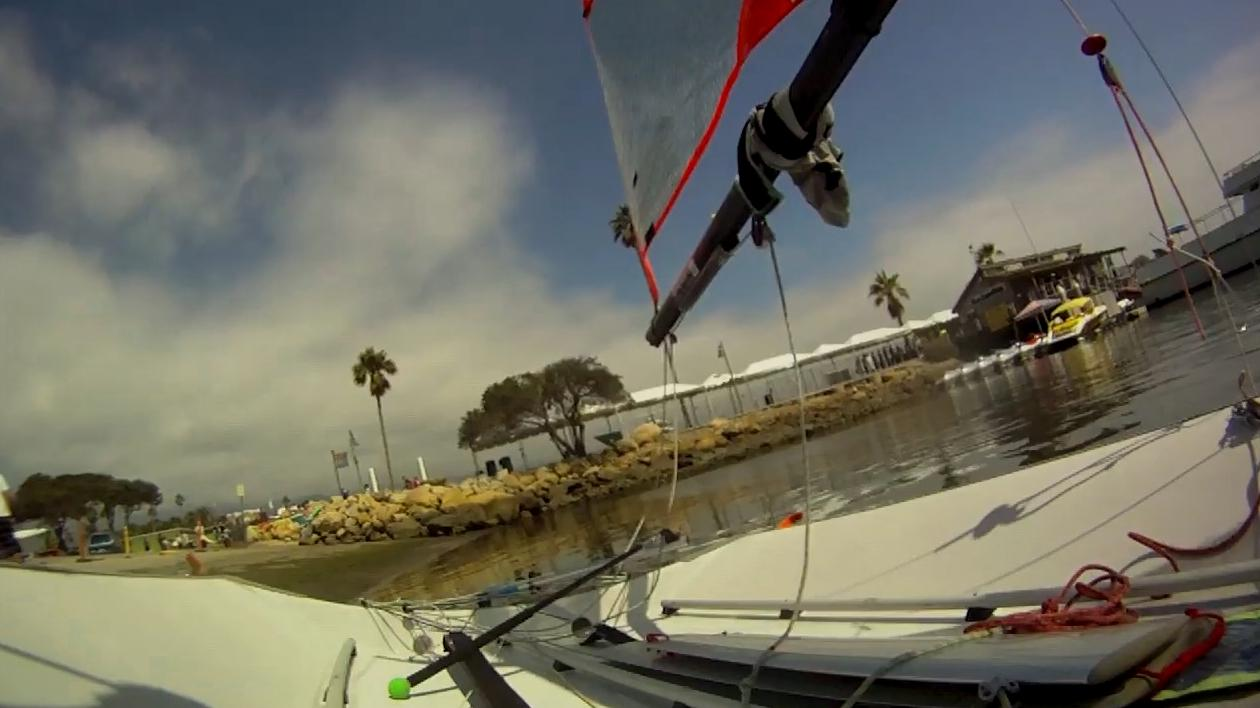boat: (0, 393, 1260, 708), (582, 0, 897, 347)
land: (0, 162, 1260, 558), (48, 537, 476, 604)
sea: (358, 263, 1260, 604)
sky: (0, 0, 1260, 507)
